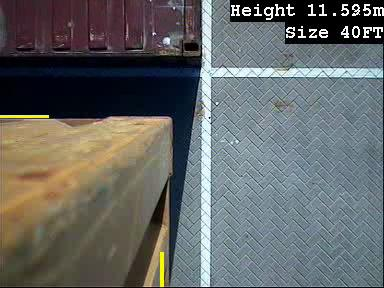groundmarker_2: (196, 163, 240, 218)
